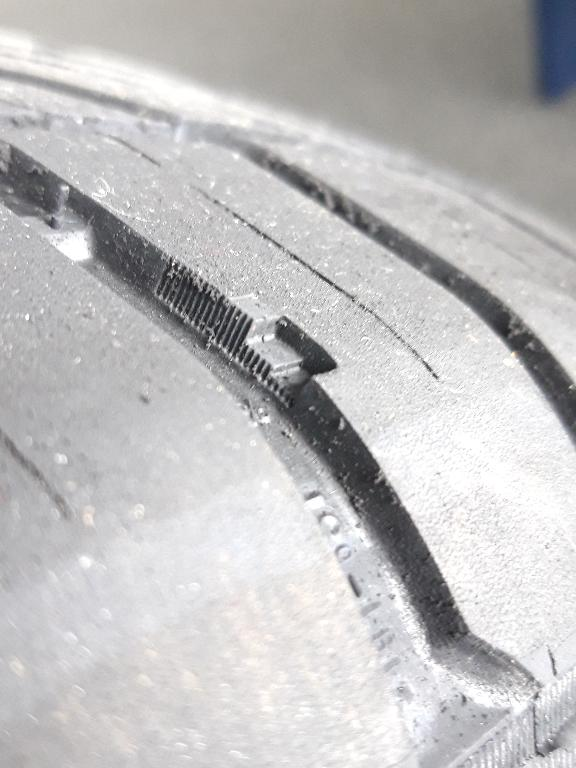temoin:50: (201, 283, 354, 422)
